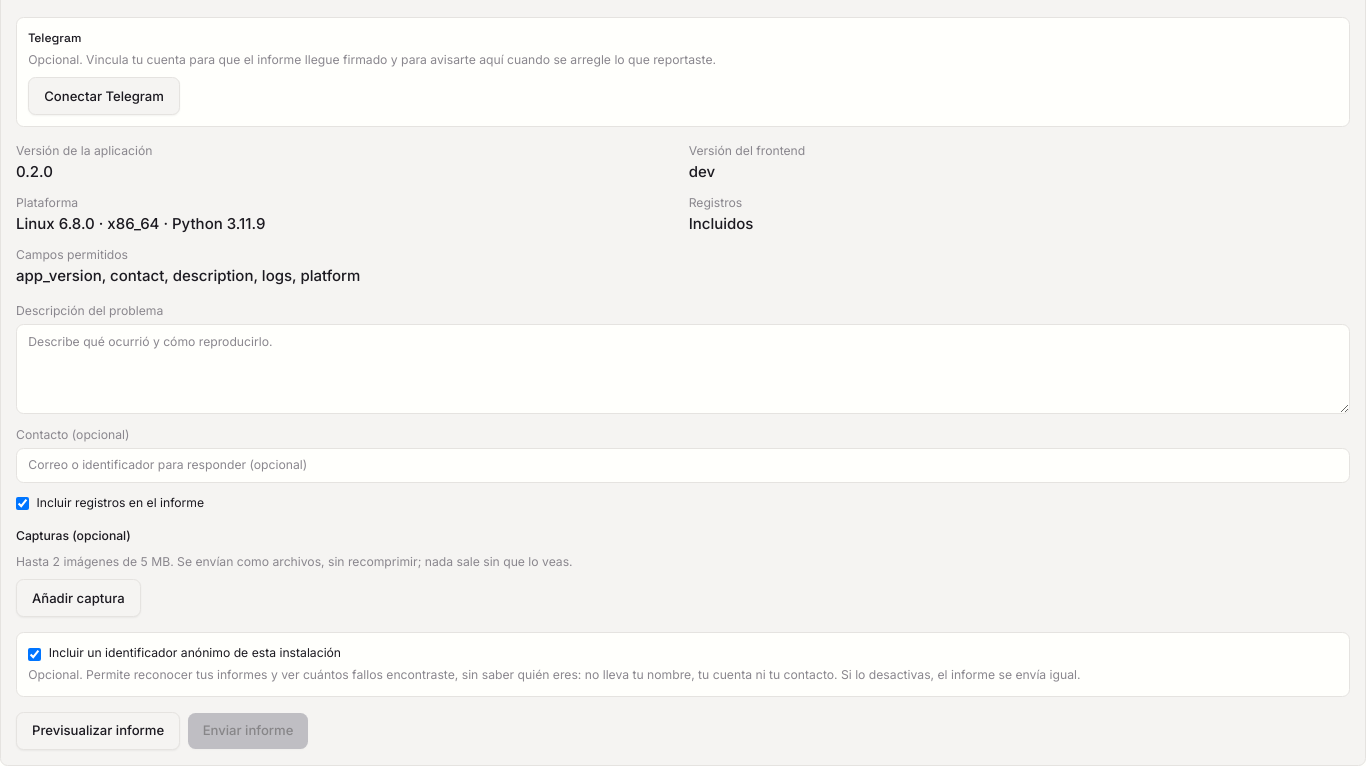
it: ReportSection — preview gate, submit and strict fallback (S2b) › shows the success feedback and hides the fallback when delivery succeeds
(page scrolled)
Check: the text "0.2.0" is shown, box [16, 162, 53, 181]
Click the button "Previsualizar informe": (98, 731) [16, 712, 180, 750]
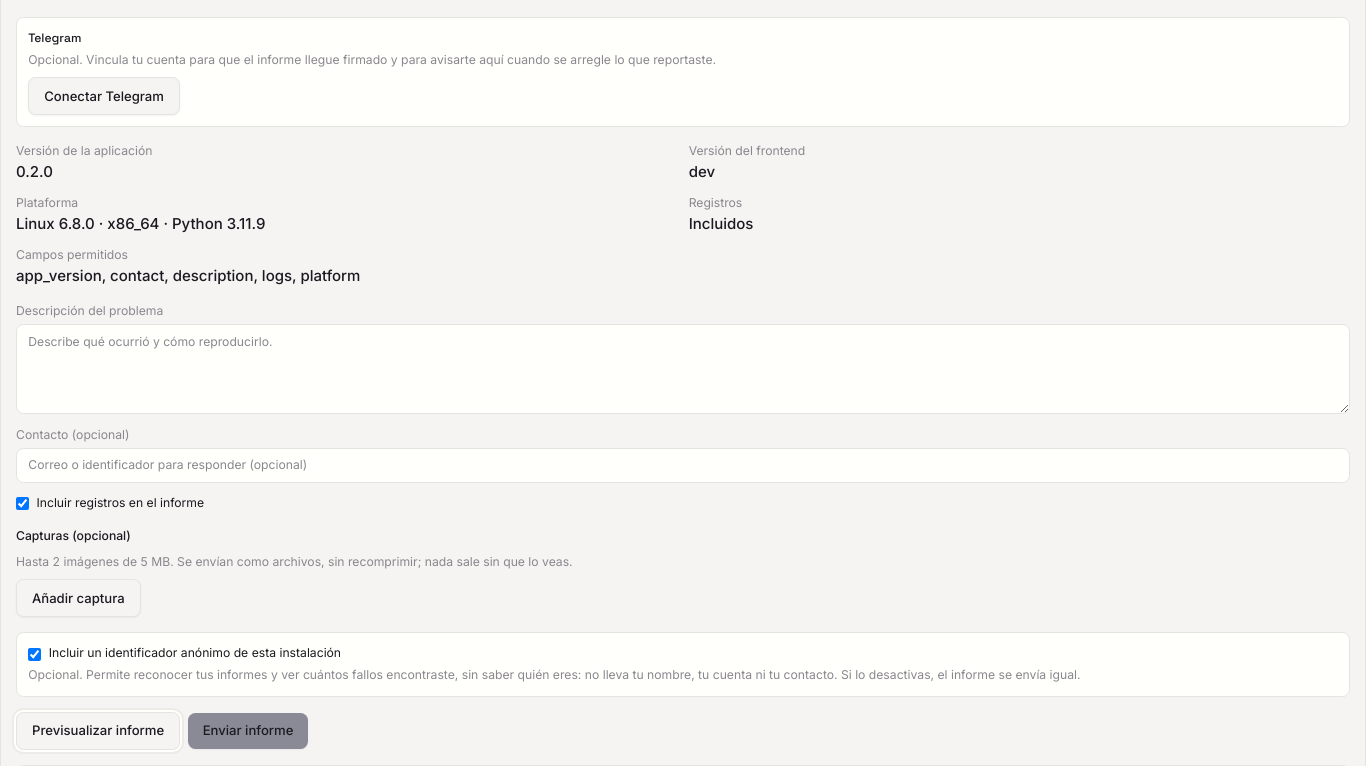
Click the button "Enviar informe": (248, 731) [188, 713, 308, 749]
(page scrolled)
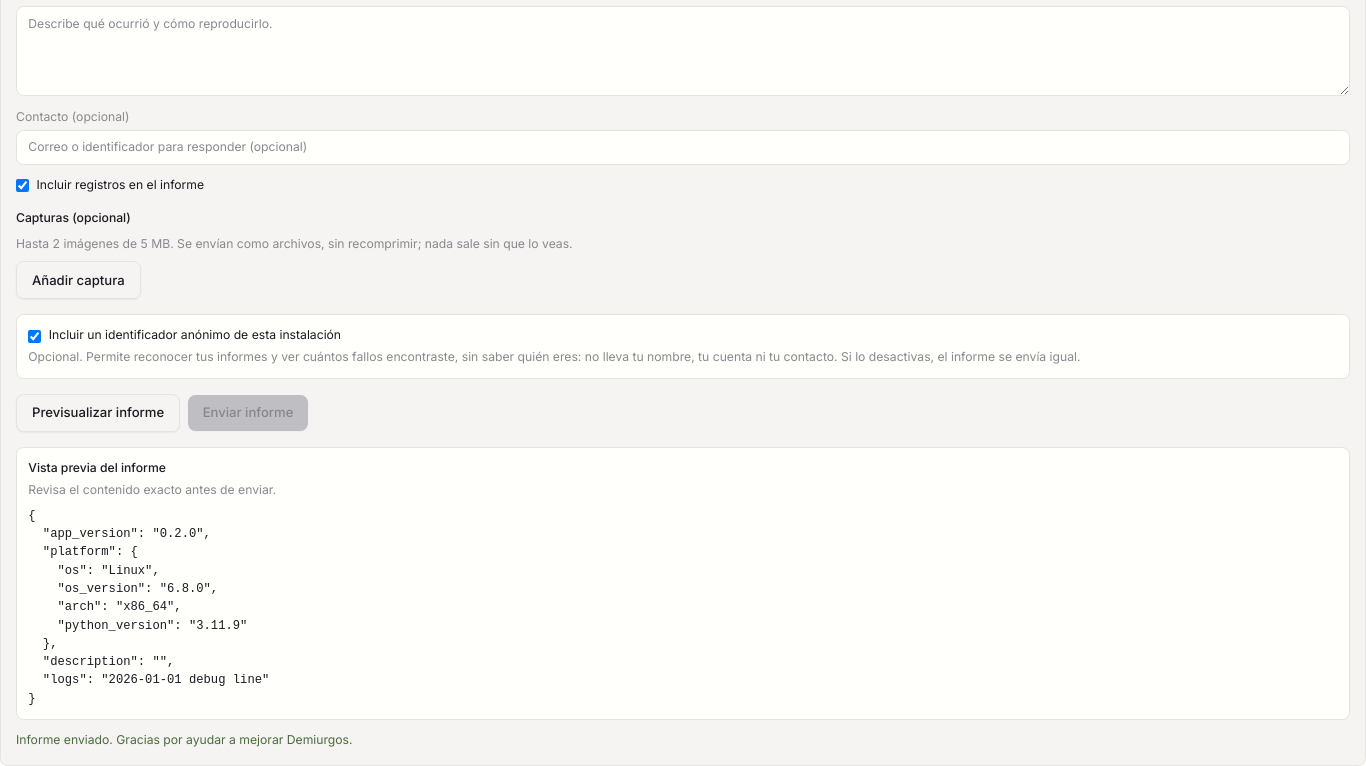
Check: the text "Informe enviado. Gracias por ayudar a mejorar Demiurgos." is shown, box [16, 732, 353, 748]
